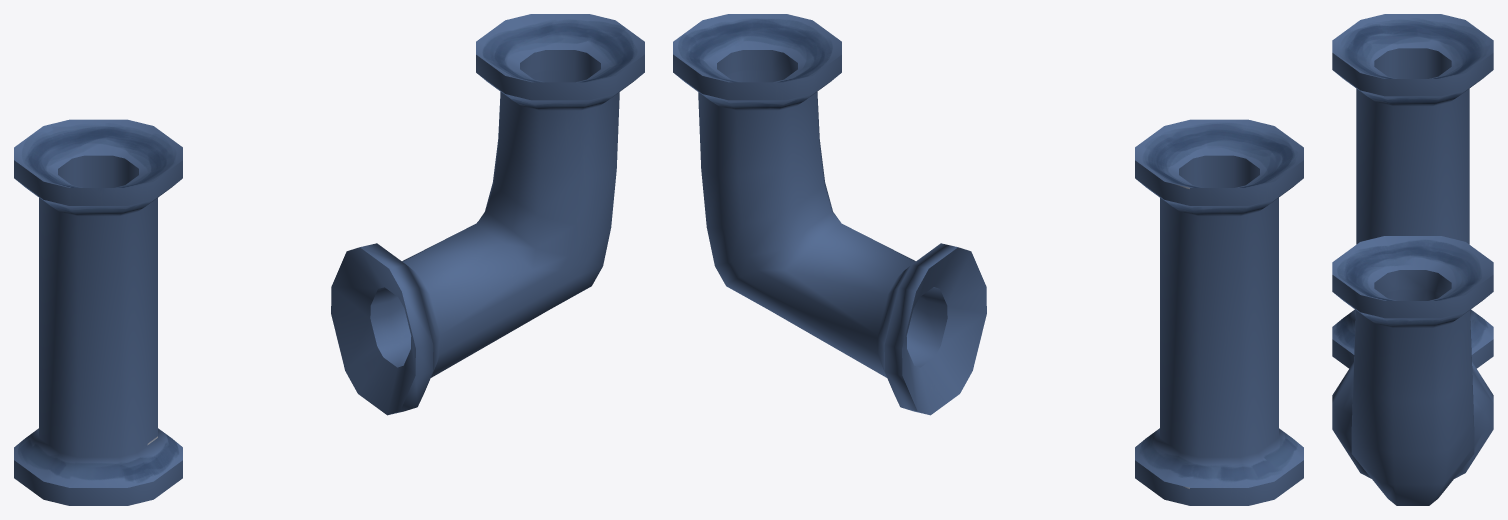
The model's file is tuberia2.fbx.
3 views of the same model, side by side, from view 1: azimuth 30°, elevation 25°; view 2: azimuth 150°, elevation 25°; view 3: azimuth 270°, elevation 25° (orthographic). The views are drawn at different scales.
Parts seen in each view (by area): view 1: Cylinder002, Cylinder001; view 2: Cylinder002, Cylinder001; view 3: Cylinder002, Cylinder001.
Boxes of the visible parts, bbox=[...] form: Cylinder002: bbox=[331, 14, 644, 415]; Cylinder001: bbox=[14, 119, 182, 505]; Cylinder002: bbox=[673, 14, 986, 415]; Cylinder001: bbox=[1135, 119, 1303, 505]; Cylinder002: bbox=[1332, 236, 1493, 505]; Cylinder001: bbox=[1332, 14, 1493, 368].
Bounding box in the file's own units: 286 × 144 × 69.55.
